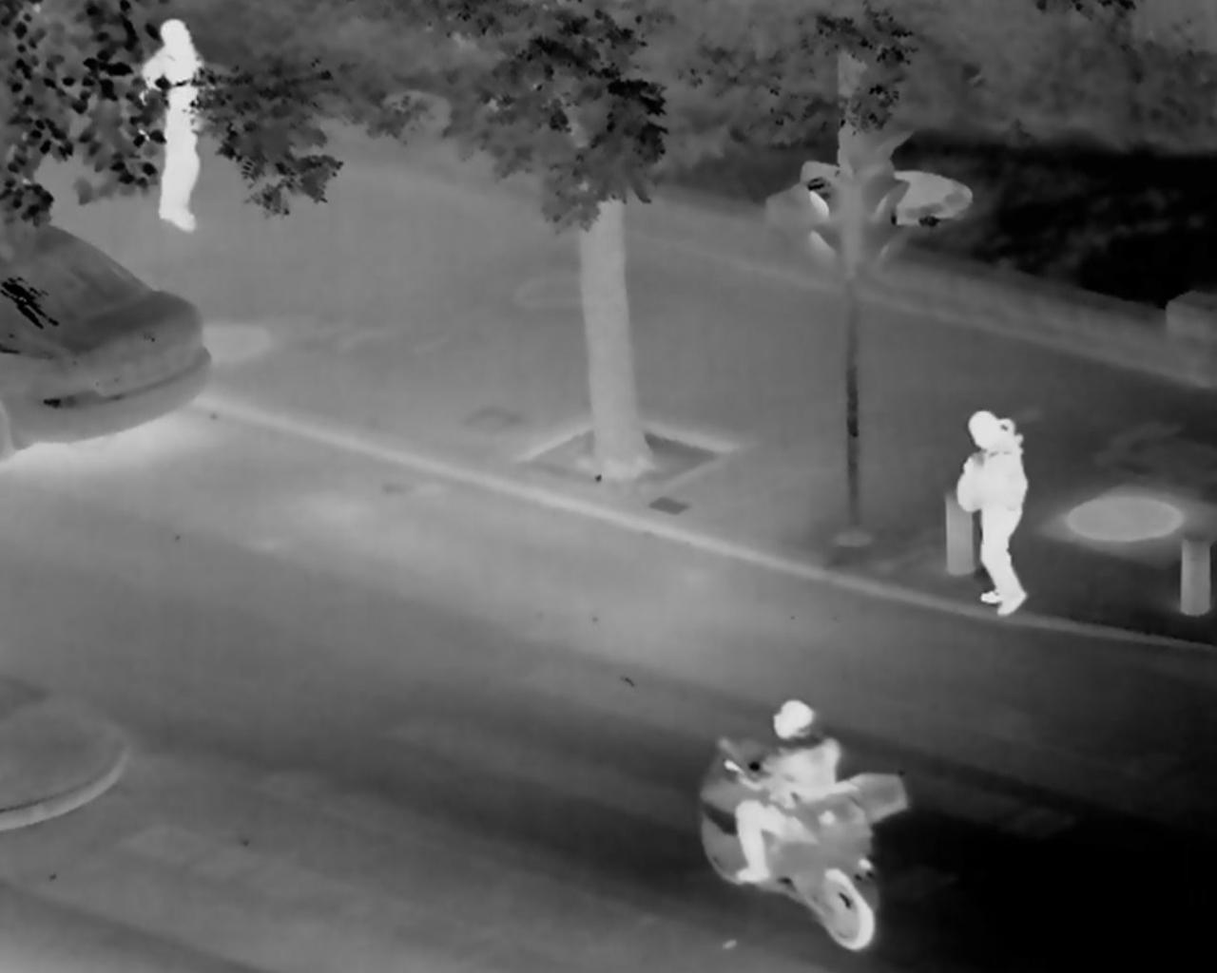person: (725, 696, 848, 897), (950, 413, 1035, 618), (132, 21, 205, 231)
